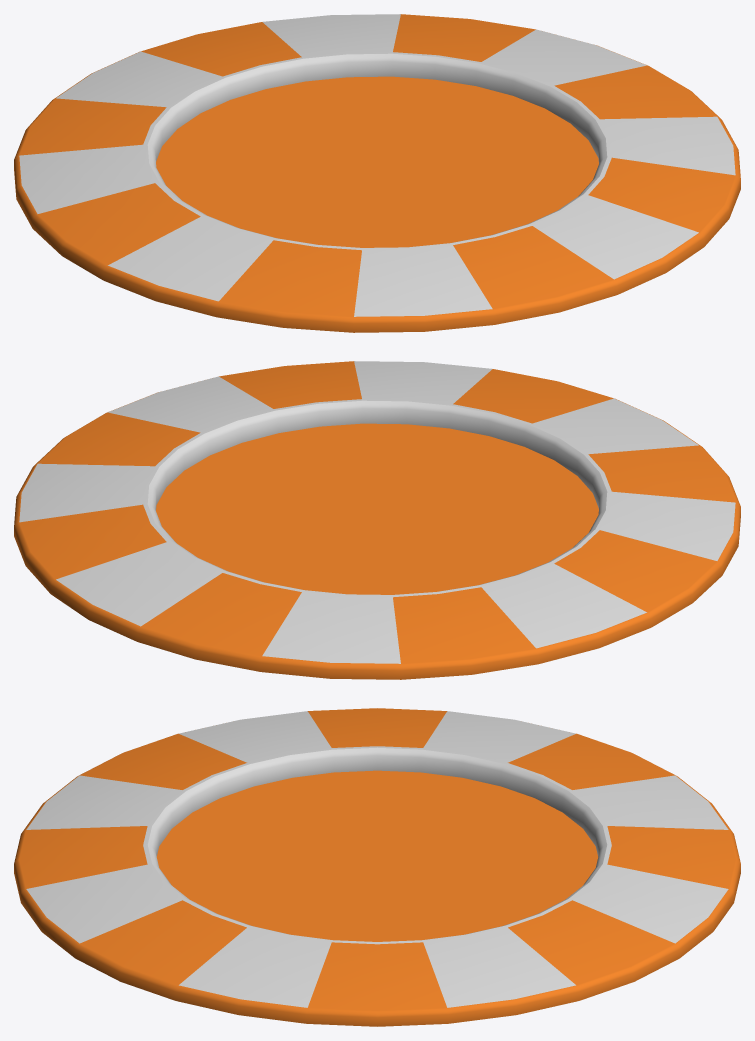
The model's file is Base Buff.fbx.
3 renders of one model, top to bottom at view 1: azimuth 30°, elevation 25°; view 2: azimuth 150°, elevation 25°; view 3: azimuth 270°, elevation 25°, orthographic.
Visible parts, largest first — view 1: Cylinder.001; view 2: Cylinder.001; view 3: Cylinder.001.
Part boxes in pixels (x1=…): Cylinder.001: x1=14, y1=14, x2=740, y2=332; Cylinder.001: x1=14, y1=361, x2=740, y2=679; Cylinder.001: x1=14, y1=708, x2=740, y2=1026.
Size of the model in its own units: 848 by 36.41 by 848.
